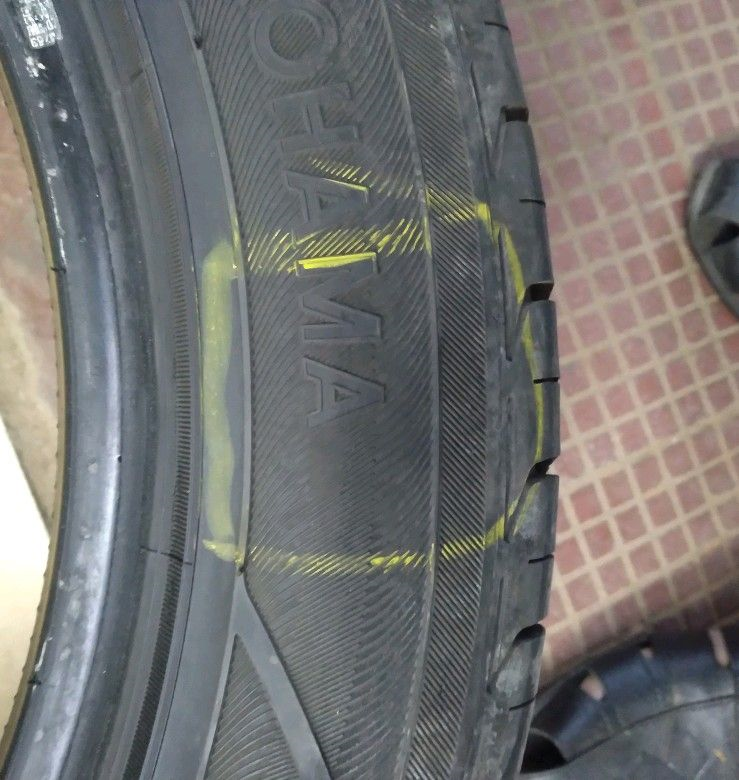CBU: (295, 293, 396, 554)
